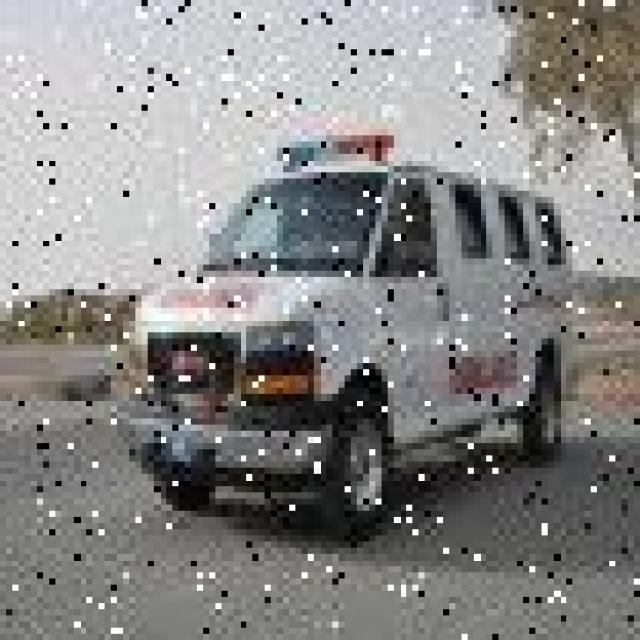emergency-vehicle: (129, 138, 591, 544)
